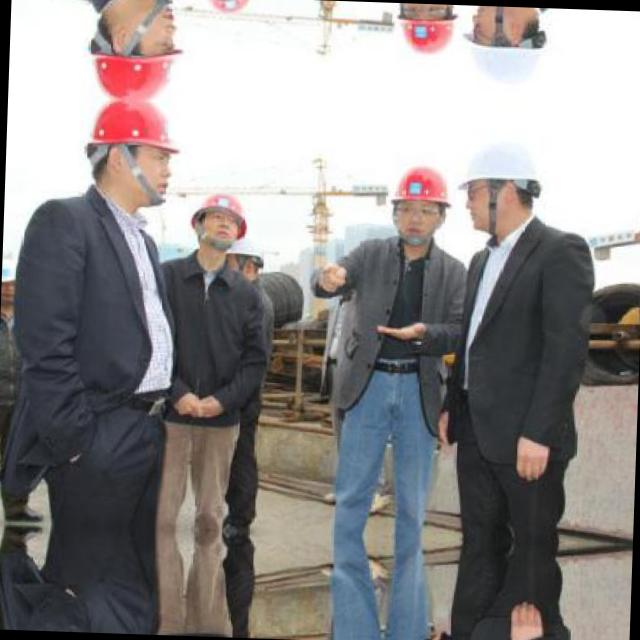helmet: (80, 99, 182, 210), (84, 0, 188, 103), (461, 132, 546, 235), (464, 5, 552, 94), (386, 157, 454, 243), (390, 2, 460, 64), (185, 188, 247, 250), (220, 234, 266, 282), (192, 0, 254, 17)
